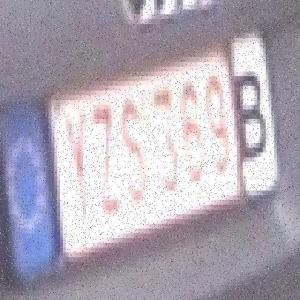Plate: (0, 20, 290, 278)
